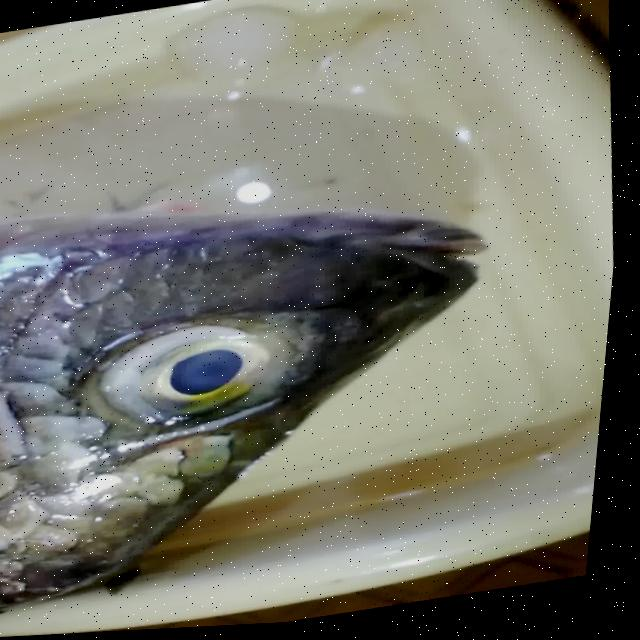Fresh: (42, 272, 326, 457)
